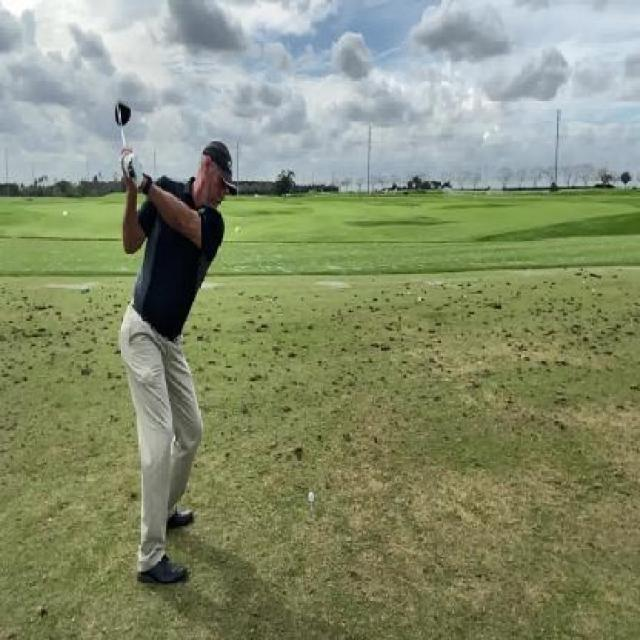club head: (114, 98, 132, 130)
